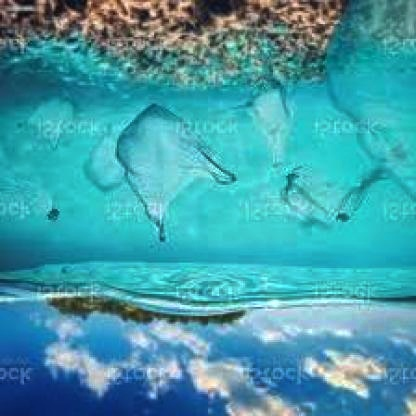pbag: (113, 104, 240, 242)
